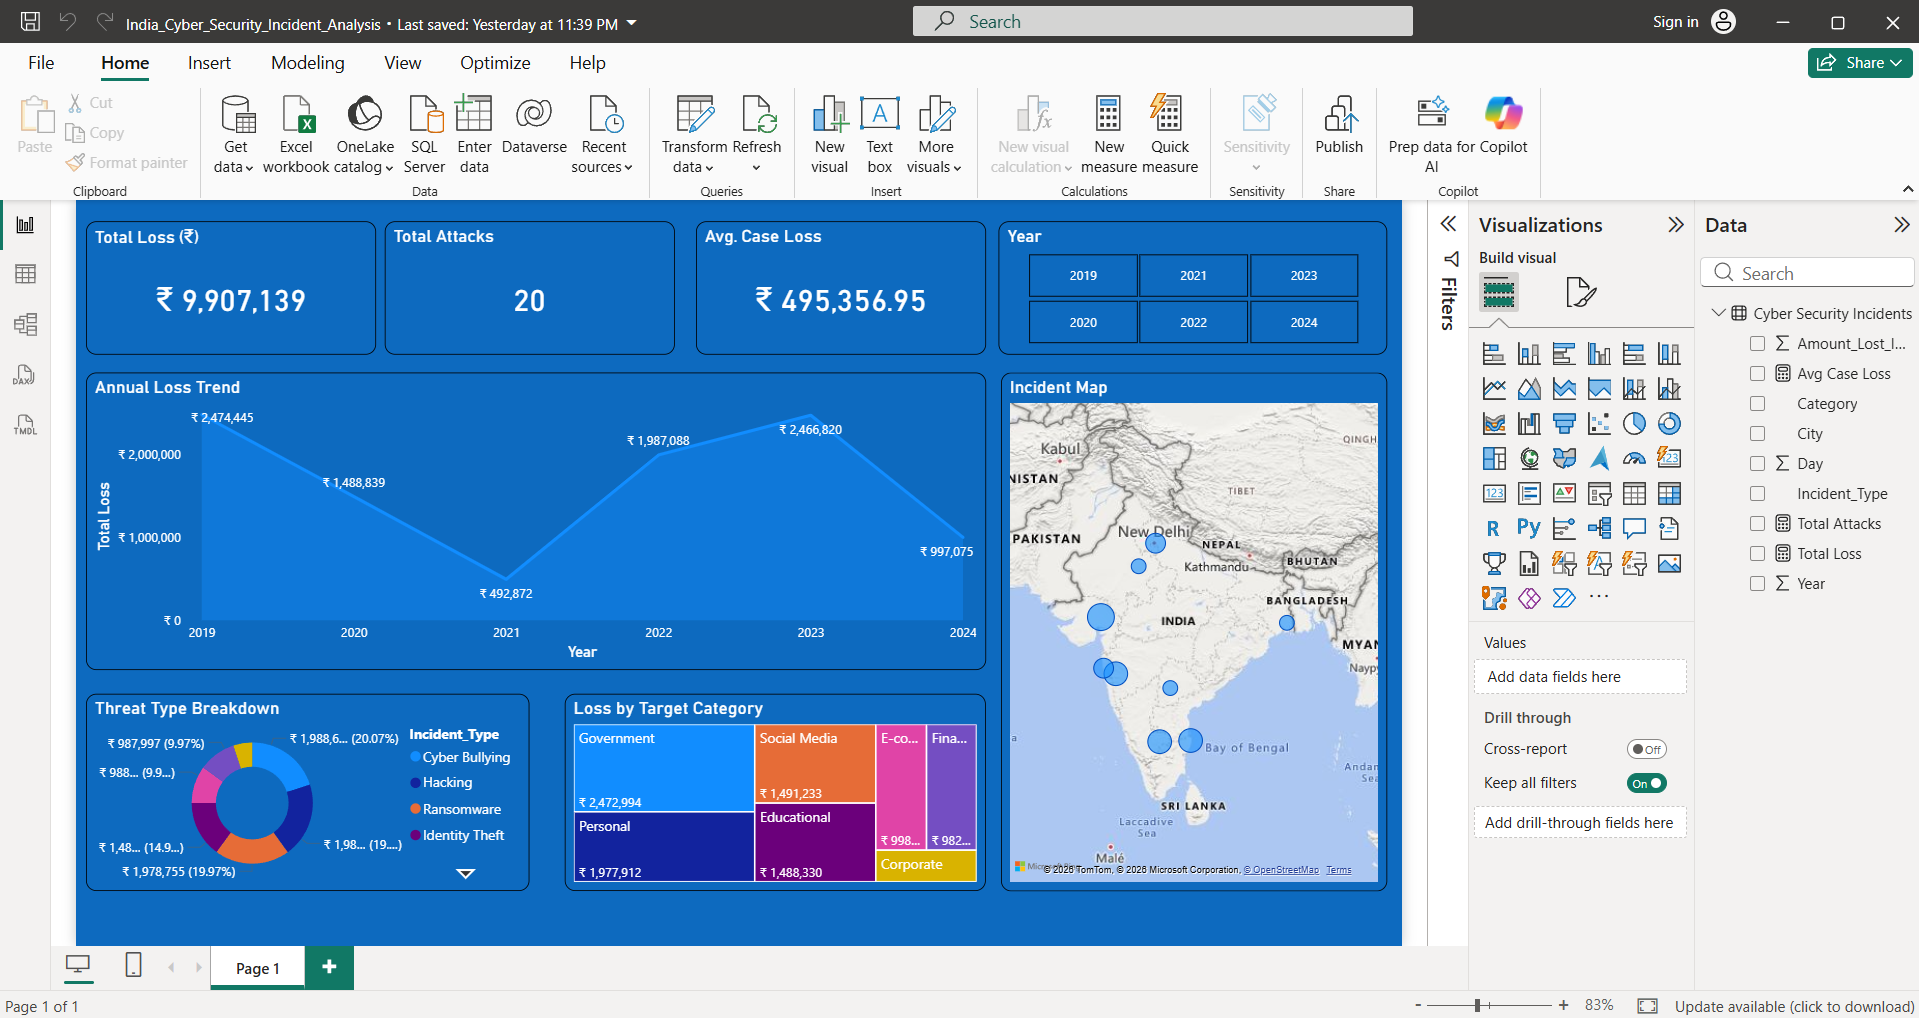

The dashboard page shown, as its layout file describes it:
{"tool":"powerbi","page":{"name":"Page 1","canvas":[1280,720],"ordinal":0},"visuals":[{"type":"card","title":"Total Loss (₹)","fields":{"Values":["India_Security_Incidents_Analysis.Total Loss"]},"box":[9.7,20.5,279.9,129.1],"z":0},{"type":"card","title":"Total Attacks","fields":{"Values":["India_Security_Incidents_Analysis.Total Attacks"]},"box":[298,20.5,279.9,129.1],"z":1000},{"type":"card","title":"Avg. Case Loss","fields":{"Values":["India_Security_Incidents_Analysis.Avg Case Loss"]},"box":[598.4,20.5,279.9,129.1],"z":2000},{"type":"slicer","title":"Year","fields":{"Values":["India_Security_Incidents_Analysis.Year"]},"box":[890.4,20.5,375.2,129.1],"z":3000},{"type":"lineChart","title":"Annual Loss Trend","fields":{"Category":["India_Security_Incidents_Analysis.Year"],"Y":["India_Security_Incidents_Analysis.Total Loss"]},"box":[9.7,166.5,868.6,287.1],"z":4000},{"type":"donutChart","title":"Threat Type Breakdown","fields":{"Category":["India_Security_Incidents_Analysis.Incident_Type"],"Y":["India_Security_Incidents_Analysis.Total Loss"]},"box":[9.7,476.5,428.3,190.6],"z":5000},{"type":"treemap","title":"Loss by Target Category","fields":{"Group":["India_Security_Incidents_Analysis.Category"],"Values":["India_Security_Incidents_Analysis.Total Loss"]},"box":[471.7,476.5,406.6,190.6],"z":6000},{"type":"map","title":"Incident Map","fields":{"Category":["India_Security_Incidents_Analysis.City"],"Size":["India_Security_Incidents_Analysis.Total Loss"]},"box":[892.8,166.5,372.8,500.7],"z":7000}]}

Visuals, with their boxes on the page's 1280x720 design canvas (x1, y1, x2, y2). These are canvas units, not pixel positions in the 1919x1018 screenshot, which may show the page scaled, cropped or inside an application window:
"Total Loss (₹)" card: crop(10, 20, 290, 150)
"Total Attacks" card: crop(298, 20, 578, 150)
"Avg. Case Loss" card: crop(598, 20, 878, 150)
"Year" slicer: crop(890, 20, 1266, 150)
"Annual Loss Trend" lineChart: crop(10, 166, 878, 454)
"Threat Type Breakdown" donutChart: crop(10, 476, 438, 667)
"Loss by Target Category" treemap: crop(472, 476, 878, 667)
"Incident Map" map: crop(893, 166, 1266, 667)
